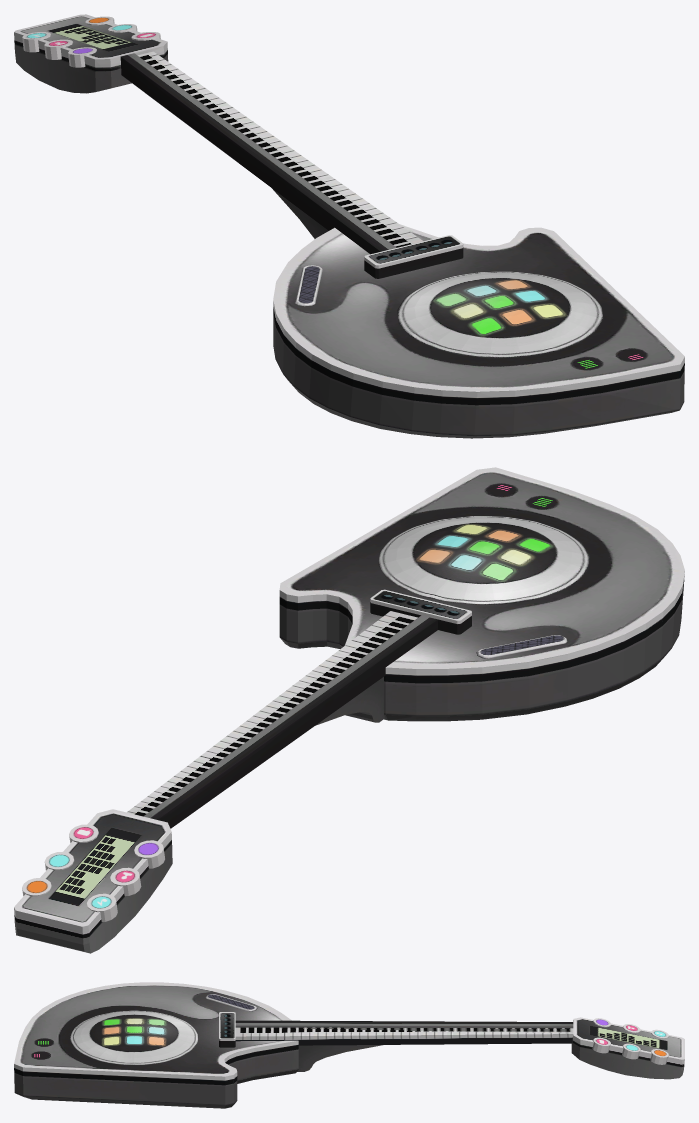
File: Weapon_5pb1.obj
The picture shows the model from 3 angles, top to bottom: view 1: azimuth 30°, elevation 25°; view 2: azimuth 150°, elevation 25°; view 3: azimuth 270°, elevation 25°; orthographic projection. The views are drawn at different scales.
Parts seen in each view (by area): view 1: Weapon_5pb_1; view 2: Weapon_5pb_1; view 3: Weapon_5pb_1.
Boxes of the visible parts, x1,y1,x2,y2 form: Weapon_5pb_1: [14, 14, 684, 438]; Weapon_5pb_1: [14, 467, 684, 953]; Weapon_5pb_1: [14, 982, 684, 1108].
Size of the model in its own units: 11.46 by 2.45 by 34.46.
1 material, 1 textured.
